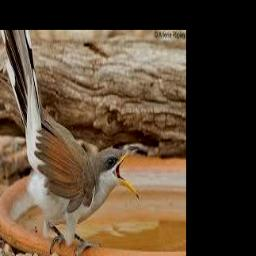Cuckoo: (0, 30, 139, 255)
